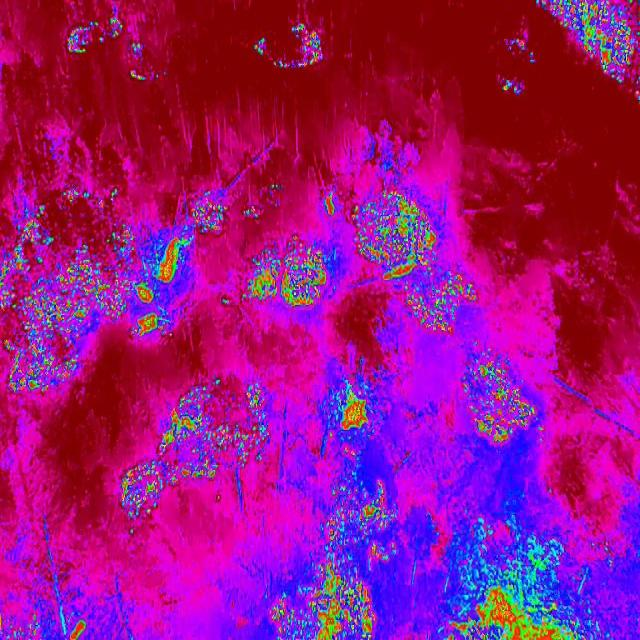fire: (0, 192, 111, 386), (442, 515, 600, 640), (352, 195, 484, 330), (308, 484, 406, 640), (130, 198, 215, 346), (159, 384, 271, 474), (458, 357, 542, 443), (242, 233, 330, 311), (0, 599, 121, 640), (590, 0, 640, 82), (322, 381, 383, 447), (112, 458, 165, 528), (266, 575, 308, 640), (534, 0, 590, 39)
